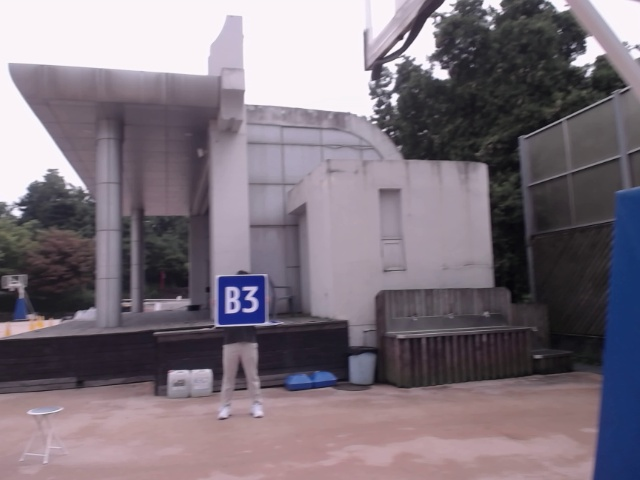delivery_b3: (215, 273, 269, 324)
